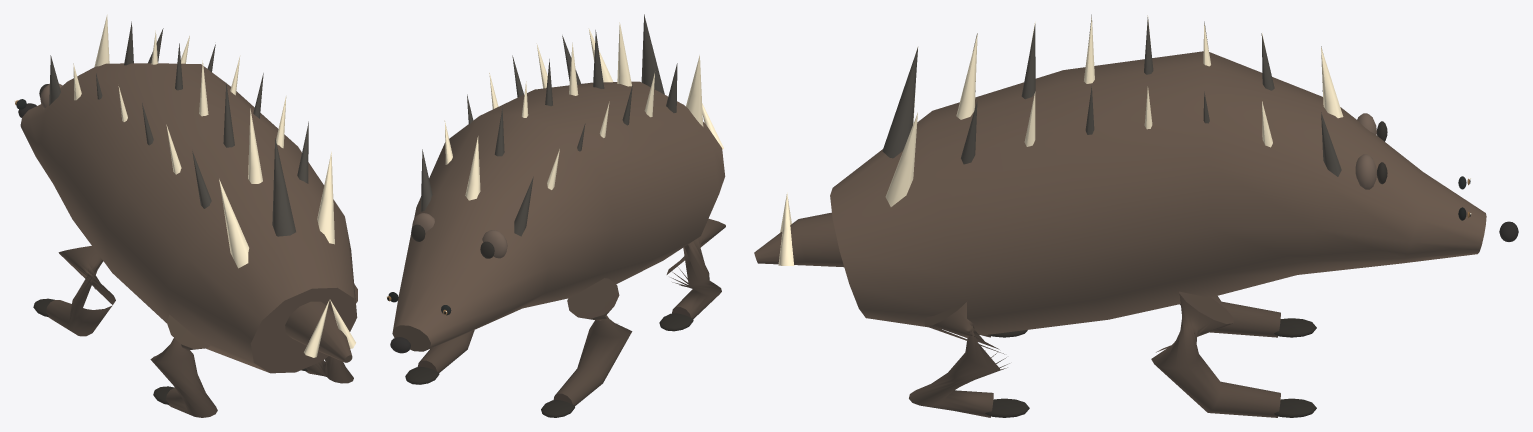
File: porcupine_hero.glb
The picture shows the model from 3 angles, left to right: view 1: azimuth 30°, elevation 25°; view 2: azimuth 150°, elevation 25°; view 3: azimuth 270°, elevation 25°; orthographic projection. The views are drawn at different scales.
Visible parts, largest first — view 1: PorcupineOrganicBody, Leg_LH, Leg_LF, Tail, BackQuillDetail_1_00, BackQuillDetail_0_00, BackQuillDetail_2_00, Leg_RH, BackQuillDetail_1_01, TailQuillDetail, BackQuillDetail_1_02, BackQuillDetail_1_07 (+3 smaller); view 2: PorcupineOrganicBody, Leg_LF, Leg_LH, Leg_RF, BackQuillDetail_1_00, BackQuillDetail_0_00, BackQuillDetail_1_07, BackQuillDetail_1_01, BackQuillDetail_0_07, Paw_RF, Paw_LH, Paw_LF (+4 smaller); view 3: PorcupineOrganicBody, Leg_RF, Leg_RH, Tail, Leg_LF, BackQuillDetail_1_00, BackQuillDetail_2_00, BackQuillDetail_1_01, BackQuillDetail_1_07.
Boxes of the visible parts, x1,y1,x2,y2 form: PorcupineOrganicBody: [20, 63, 357, 373]; Leg_LH: [150, 314, 217, 417]; Leg_LF: [46, 246, 115, 336]; Tail: [285, 301, 352, 362]; BackQuillDetail_1_00: [272, 138, 295, 236]; BackQuillDetail_0_00: [219, 179, 249, 268]; BackQuillDetail_2_00: [317, 151, 334, 244]; Leg_RH: [306, 284, 357, 383]; BackQuillDetail_1_01: [248, 108, 262, 183]; TailQuillDetail: [304, 299, 329, 357]; BackQuillDetail_1_02: [223, 83, 234, 147]; BackQuillDetail_1_07: [94, 14, 109, 66]; PorcupineOrganicBody: [392, 81, 725, 351]; Leg_LF: [553, 278, 632, 405]; Leg_LH: [666, 218, 725, 319]; Leg_RF: [417, 330, 474, 372]; BackQuillDetail_1_00: [641, 14, 664, 94]; BackQuillDetail_0_00: [686, 55, 703, 126]; BackQuillDetail_1_07: [465, 136, 480, 200]; BackQuillDetail_1_01: [617, 22, 631, 86]; BackQuillDetail_0_07: [514, 176, 533, 236]; Paw_RF: [405, 366, 439, 384]; Paw_LH: [659, 313, 693, 331]; Paw_LF: [541, 400, 574, 417]; PorcupineOrganicBody: [830, 51, 1486, 335]; Leg_RF: [1151, 291, 1280, 417]; Leg_RH: [909, 302, 1009, 417]; Tail: [754, 212, 843, 267]; Leg_LF: [1180, 296, 1280, 337]; BackQuillDetail_1_00: [882, 47, 917, 158]; BackQuillDetail_2_00: [885, 112, 917, 206]; BackQuillDetail_1_01: [956, 34, 977, 119]; BackQuillDetail_1_07: [1321, 47, 1343, 118].
Bounding box in the file's own units: 1.38 × 1.97 × 3.78.
